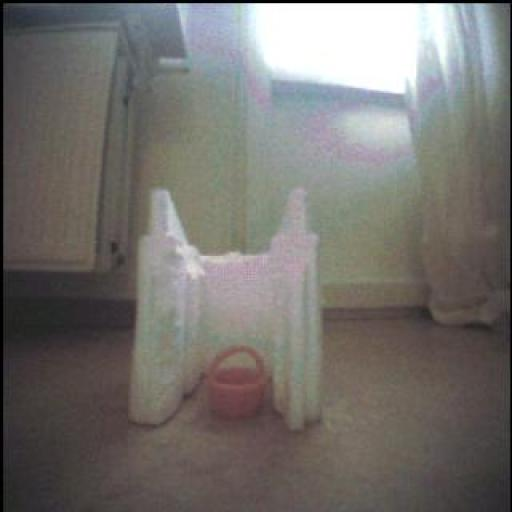Basket: (208, 347, 269, 420)
